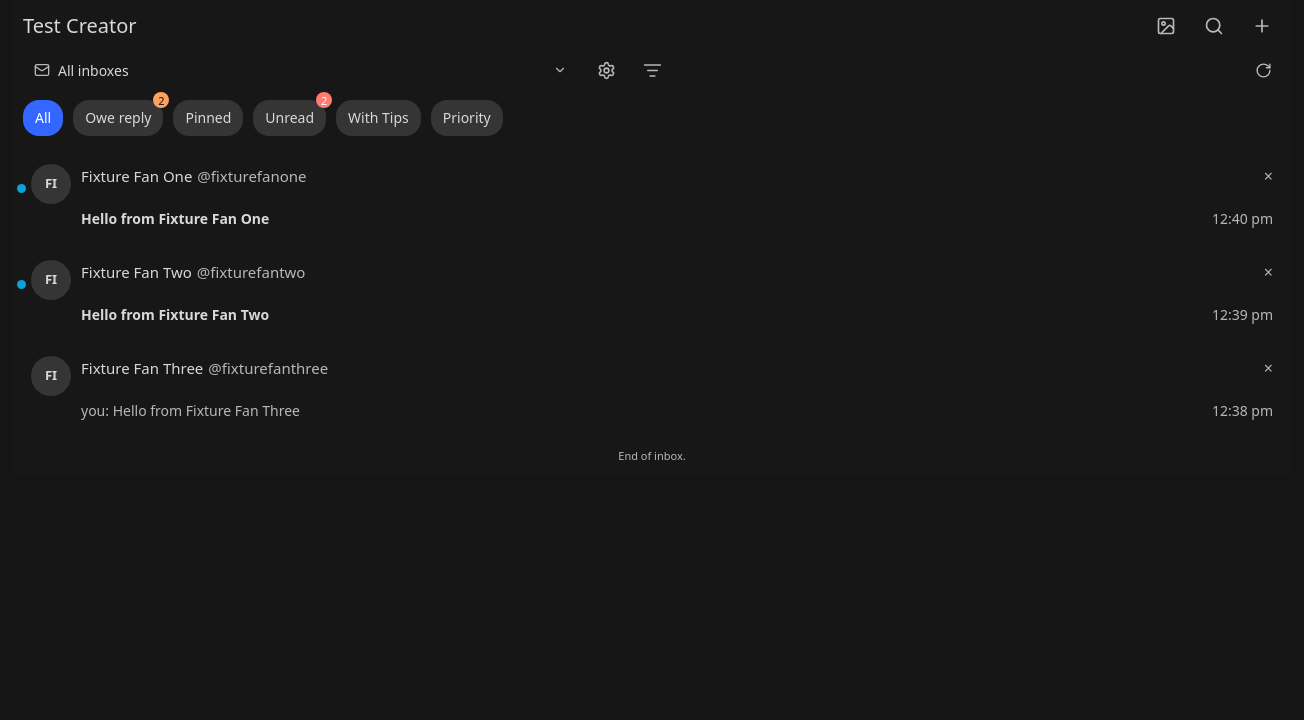
Test: FanList › closes the settings menu on Escape and on a pointer-down outside it, not on one inside it
Click the button named "Inbox settings": (606, 70) [588, 52, 624, 88]
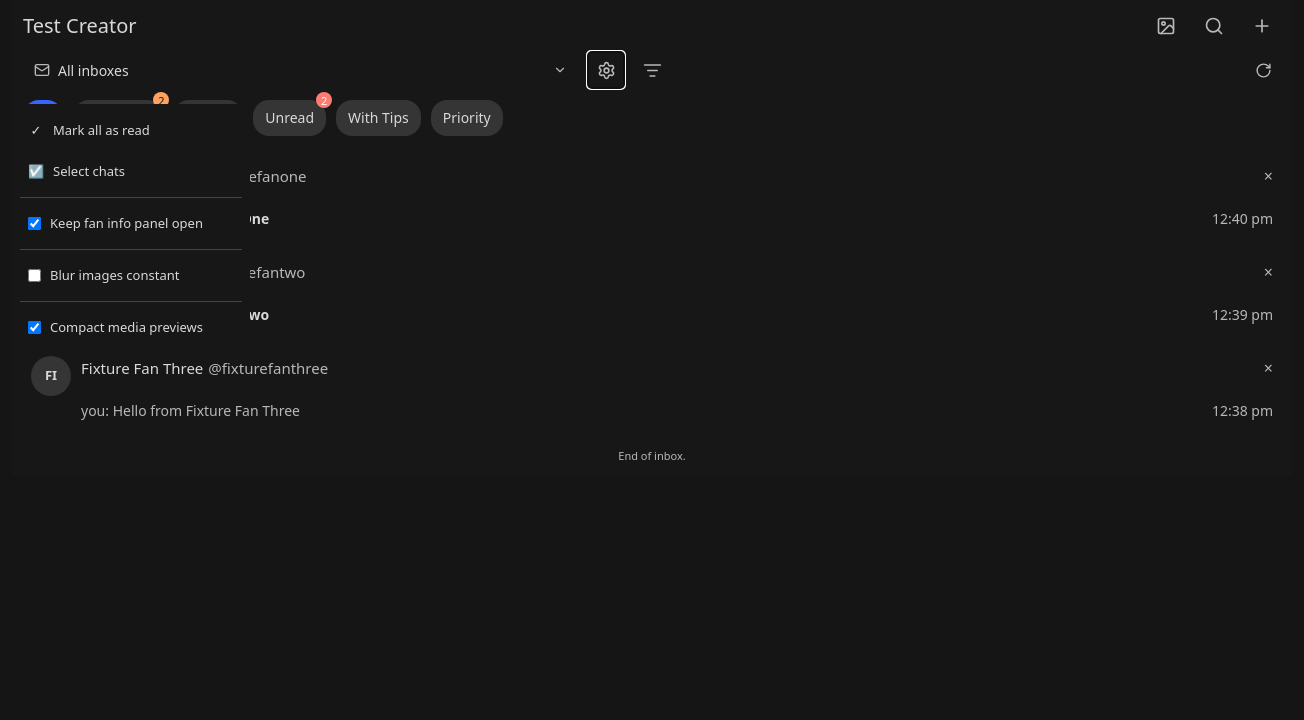
Press the mouse on the text "Keep fan info panel open": (126, 223) [50, 215, 203, 232]
Expected: the text "Mark all as read" is shown, [53, 122, 150, 139]
Press Escape
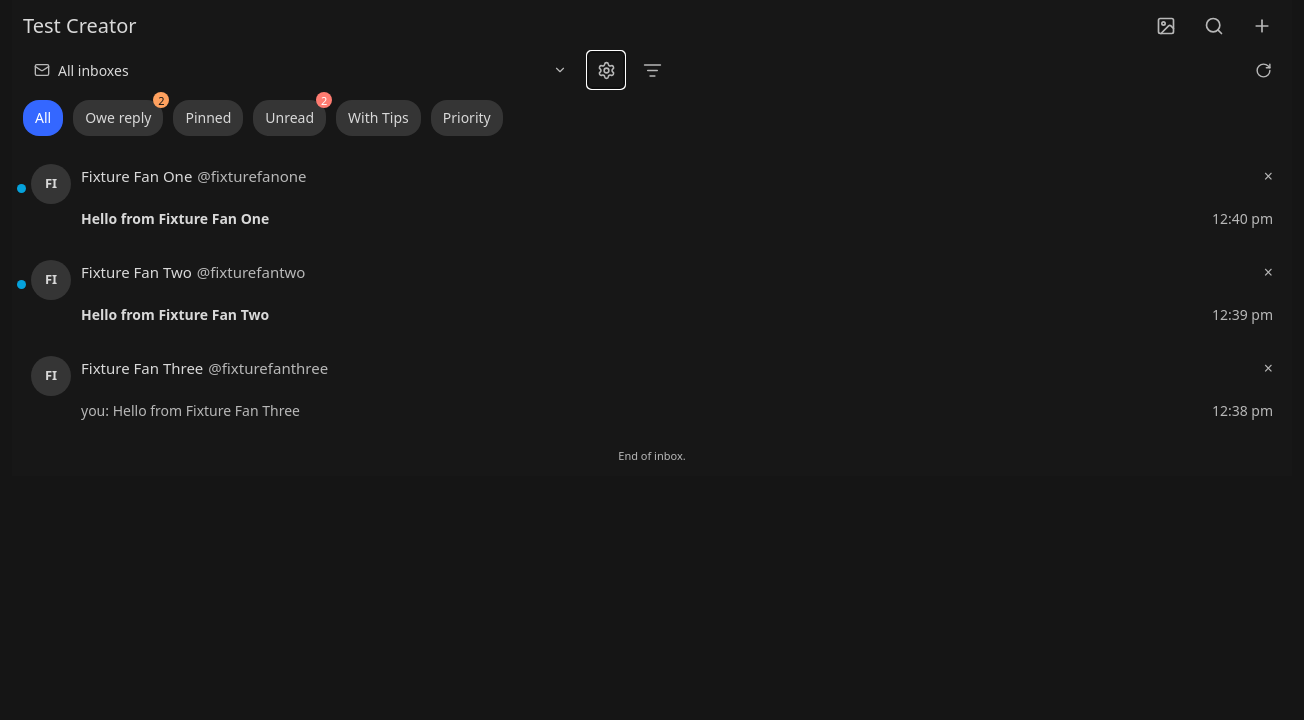
Expected: the button "Mark all as read" is gone
Click the button named "Inbox settings": (606, 70) [588, 52, 624, 88]
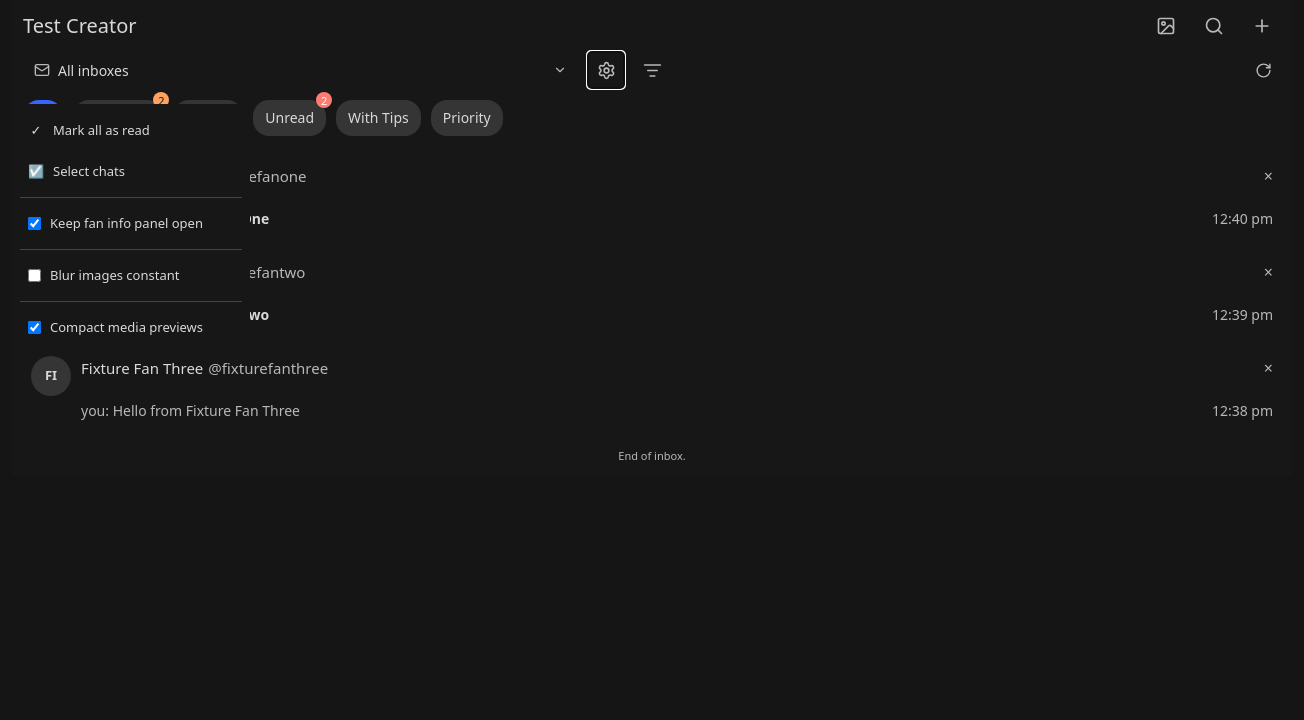
Expected: the text "Mark all as read" is shown, [53, 122, 150, 139]
Press the mouse on the element that starts with "Test Creator": (652, 360) [12, 0, 1292, 719]
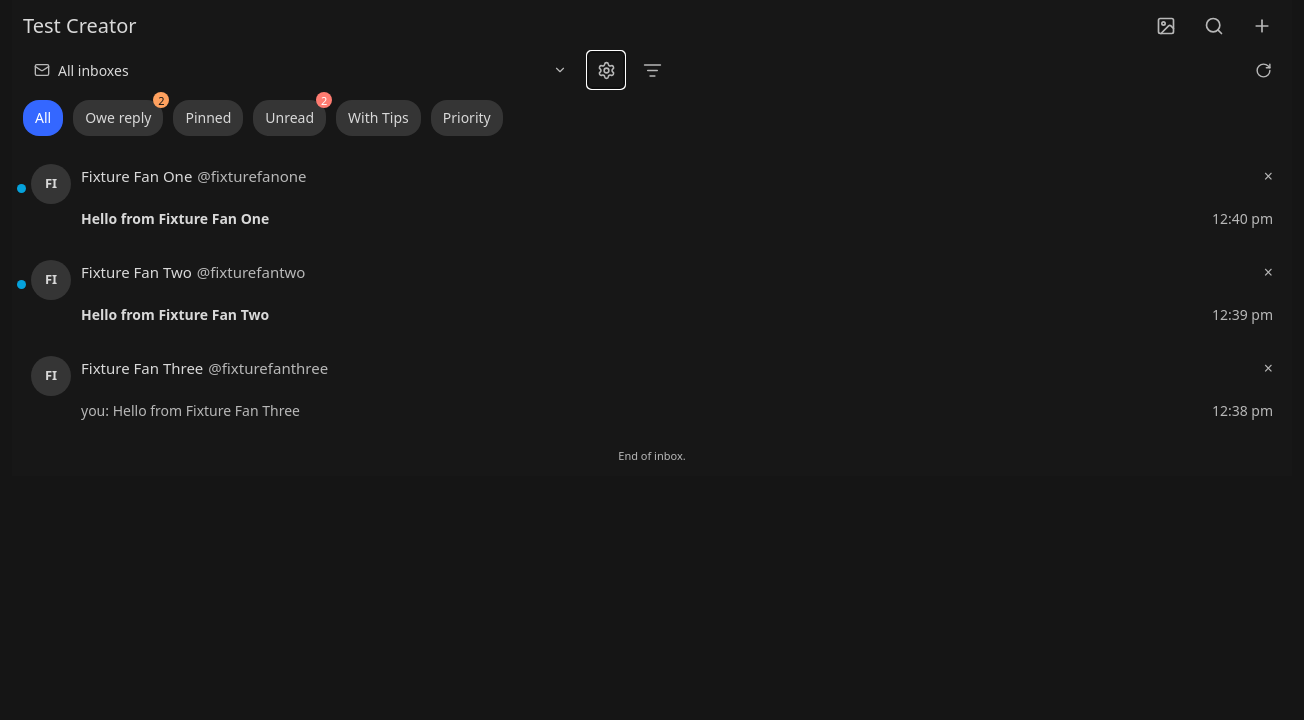
Expected: the button "Mark all as read" is gone
Click the button named "Inbox settings": (606, 70) [588, 52, 624, 88]
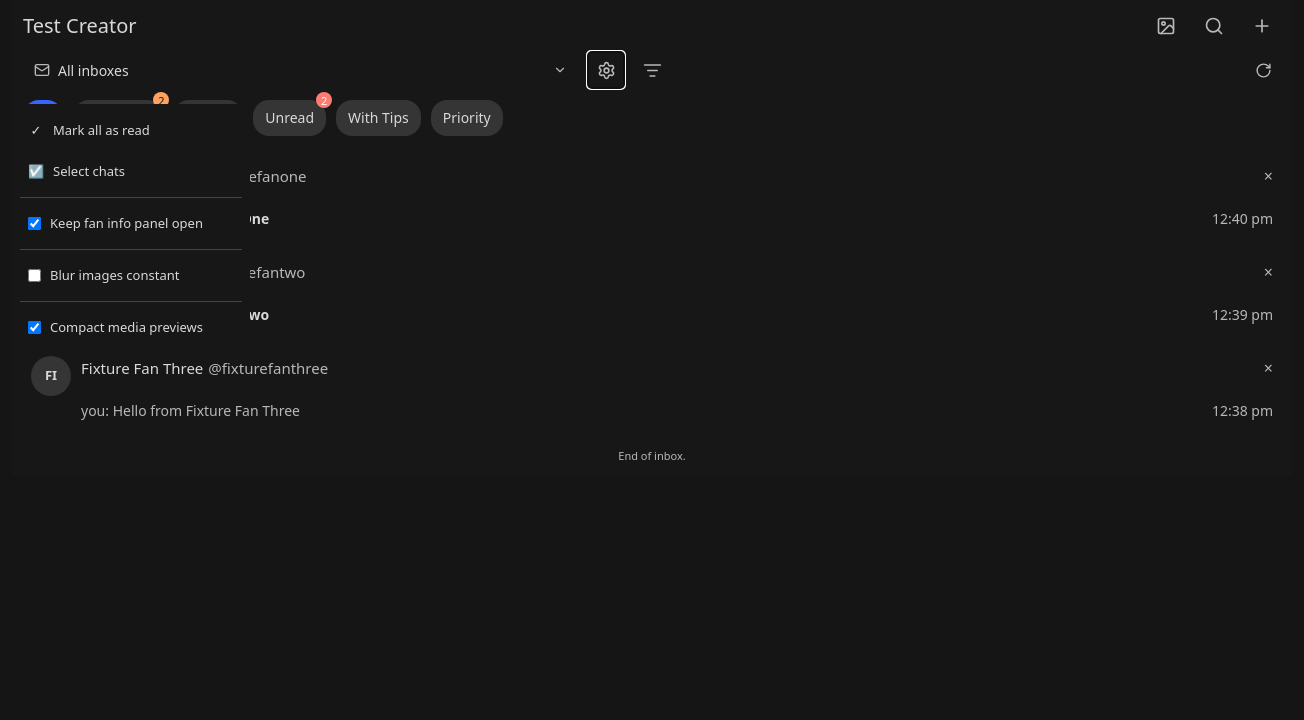
Click the button named "Inbox settings": (606, 70) [588, 52, 624, 88]
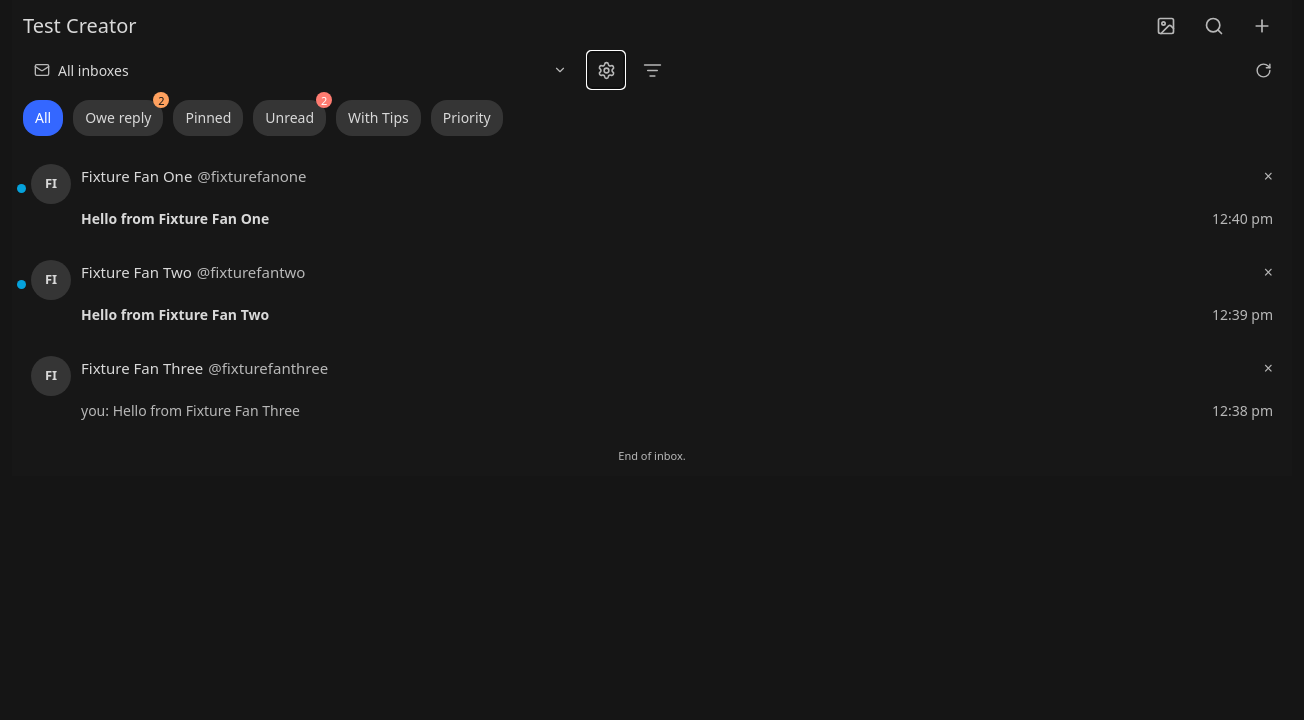
Expected: the button "Mark all as read" is gone
